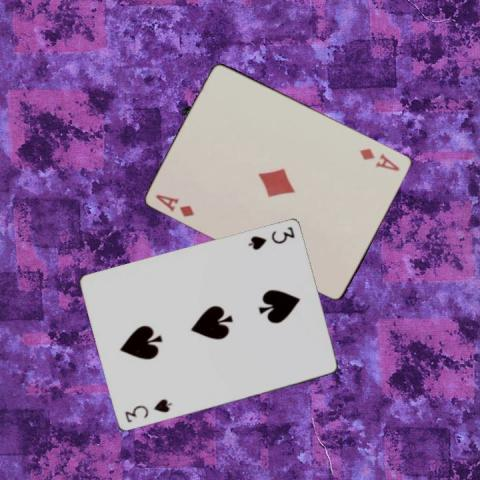3s: (122, 396, 174, 425), (245, 224, 296, 252)
Ad: (356, 144, 401, 172), (152, 191, 196, 219)
